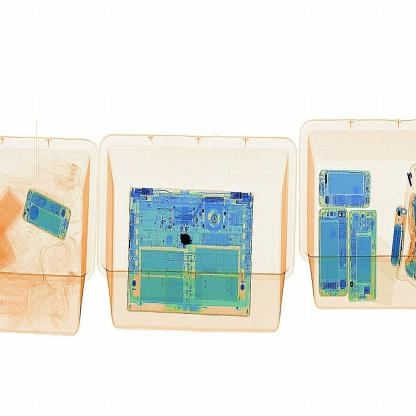scissors: (172, 230, 200, 254)
